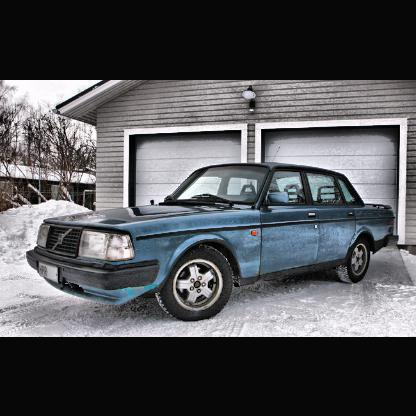Volvo 240 Sedan 1993: (27, 145, 402, 321)
